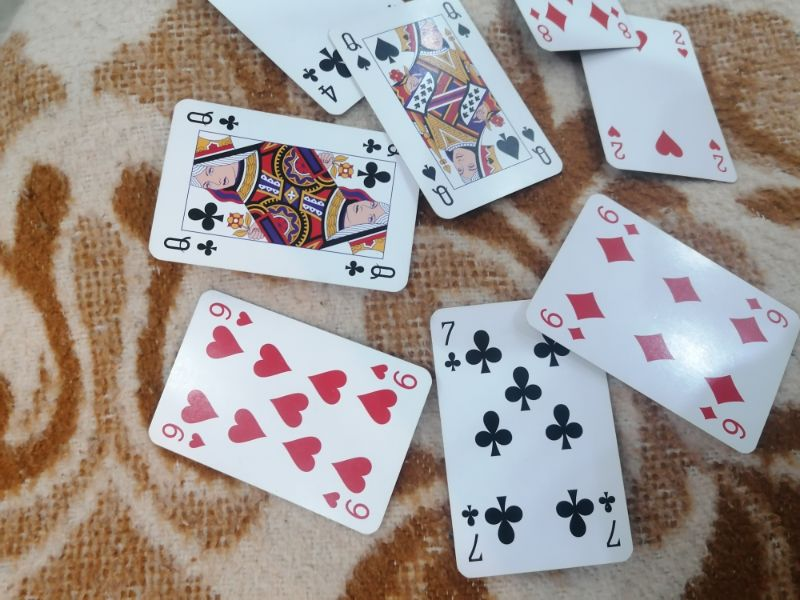2h: (703, 136, 737, 179), (666, 23, 699, 66), (602, 122, 633, 166)
4c: (297, 60, 342, 107)
6d: (693, 400, 754, 443), (739, 289, 796, 334), (590, 199, 647, 243), (536, 305, 589, 349)
7c: (452, 499, 493, 570), (593, 488, 631, 555), (434, 310, 464, 377)
8d: (522, 5, 561, 47), (602, 2, 640, 44)
9h: (315, 484, 374, 524), (367, 358, 424, 394), (154, 418, 209, 454), (204, 297, 259, 331)
Qc: (340, 251, 404, 290), (177, 103, 244, 138), (160, 229, 224, 265)
Qs: (414, 159, 464, 215), (513, 122, 560, 171), (339, 28, 376, 76), (433, 1, 475, 43)
